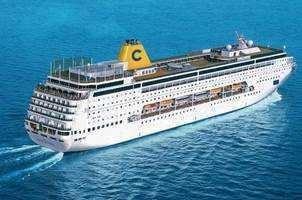youlun: (26, 27, 295, 154)
